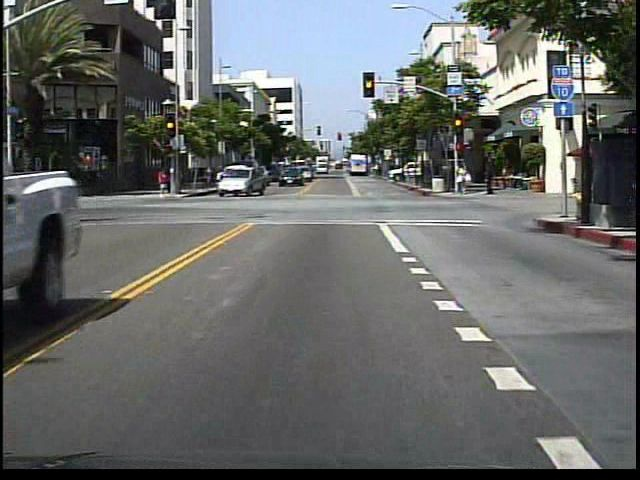person: (453, 159, 472, 198), (481, 160, 496, 197), (157, 166, 173, 196)
